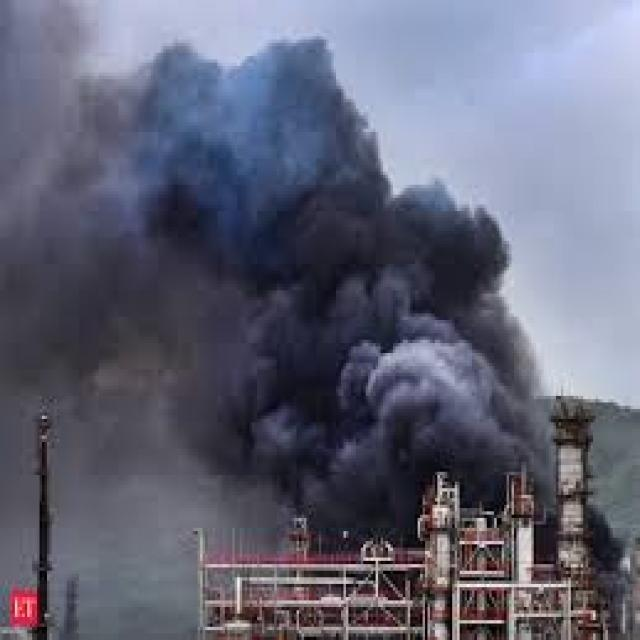Smoke: (214, 296, 566, 534), (213, 28, 515, 294), (0, 0, 210, 317), (0, 322, 211, 636)
